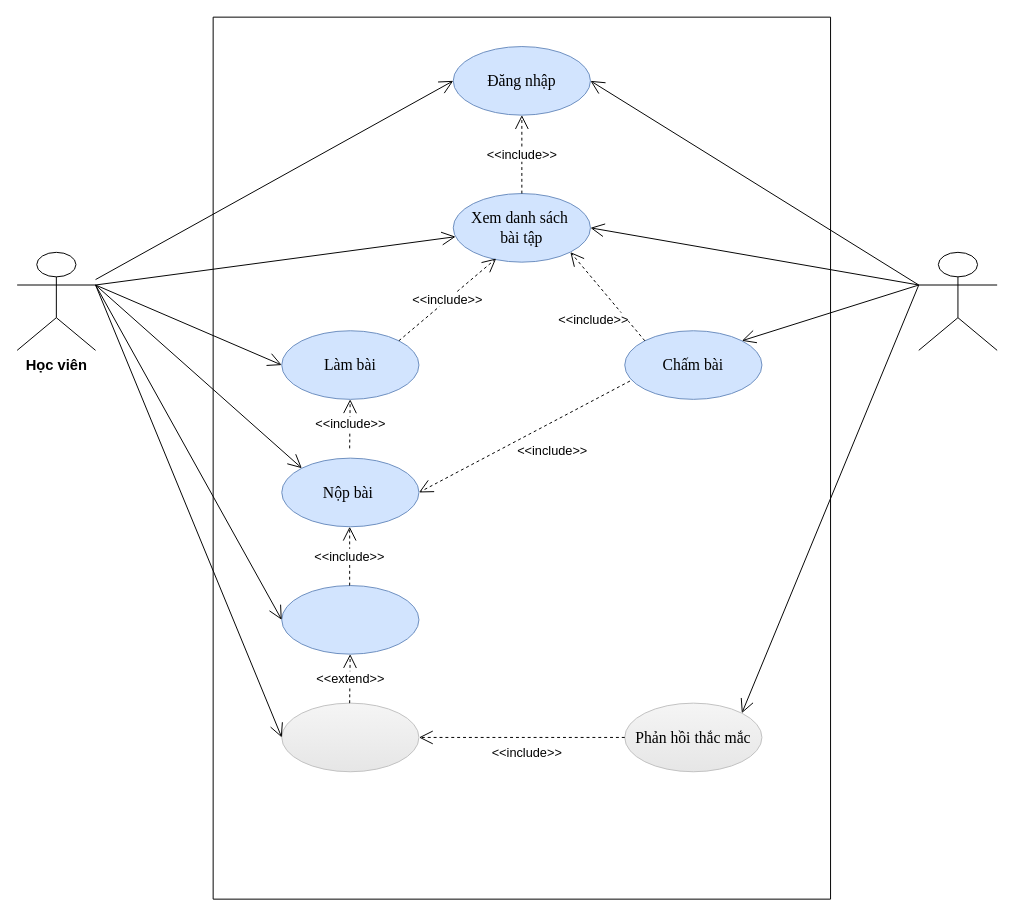
Image size: 1014x916. Some labels were removed from this diagram. Each missing label, with the centre of its shape:
Giáo viên: (x=957, y=300)
Gửi thắc mắc về bài: (x=350, y=737)
Xem kết quả bài làm: (x=350, y=619)
